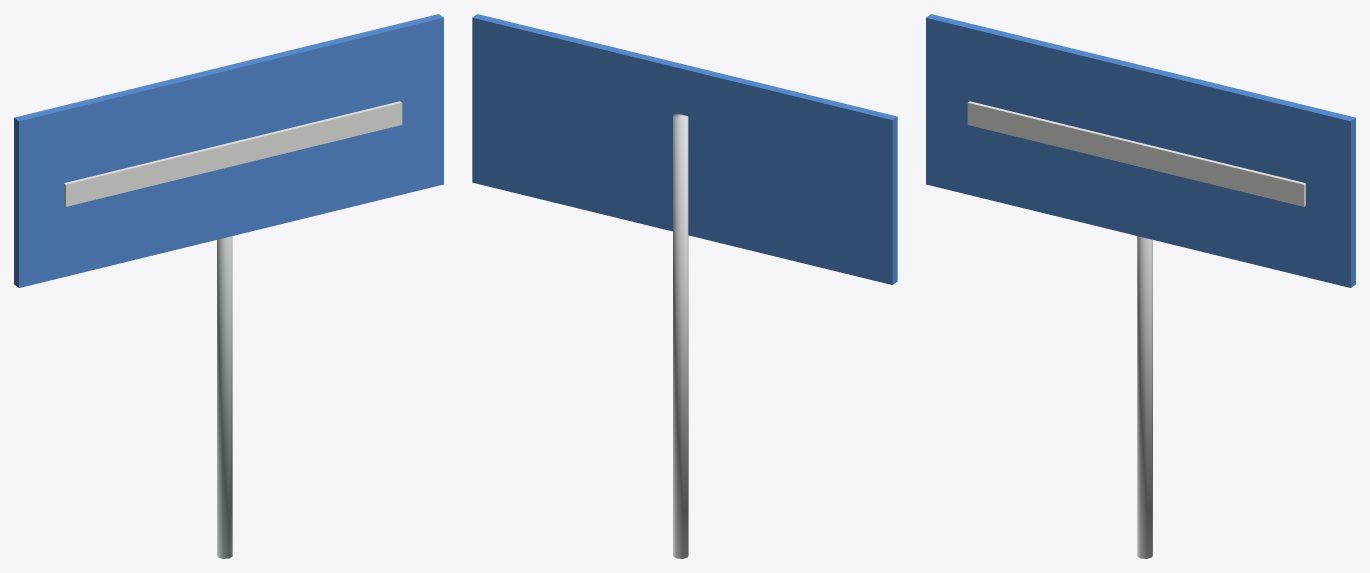
The model's file is sign_direction.glb.
3 views of the same model, side by side, from view 1: azimuth 30°, elevation 25°; view 2: azimuth 150°, elevation 25°; view 3: azimuth 330°, elevation 25° (orthographic).
Visible parts, largest first — view 1: Sign.003; view 2: Sign.003; view 3: Sign.003.
Boxes of the visible parts, bbox=[...] form: Sign.003: bbox=[14, 14, 443, 558]; Sign.003: bbox=[472, 14, 897, 558]; Sign.003: bbox=[926, 14, 1355, 558].
Bounding box in the file's own units: 2.4 × 2.65 × 0.13.
